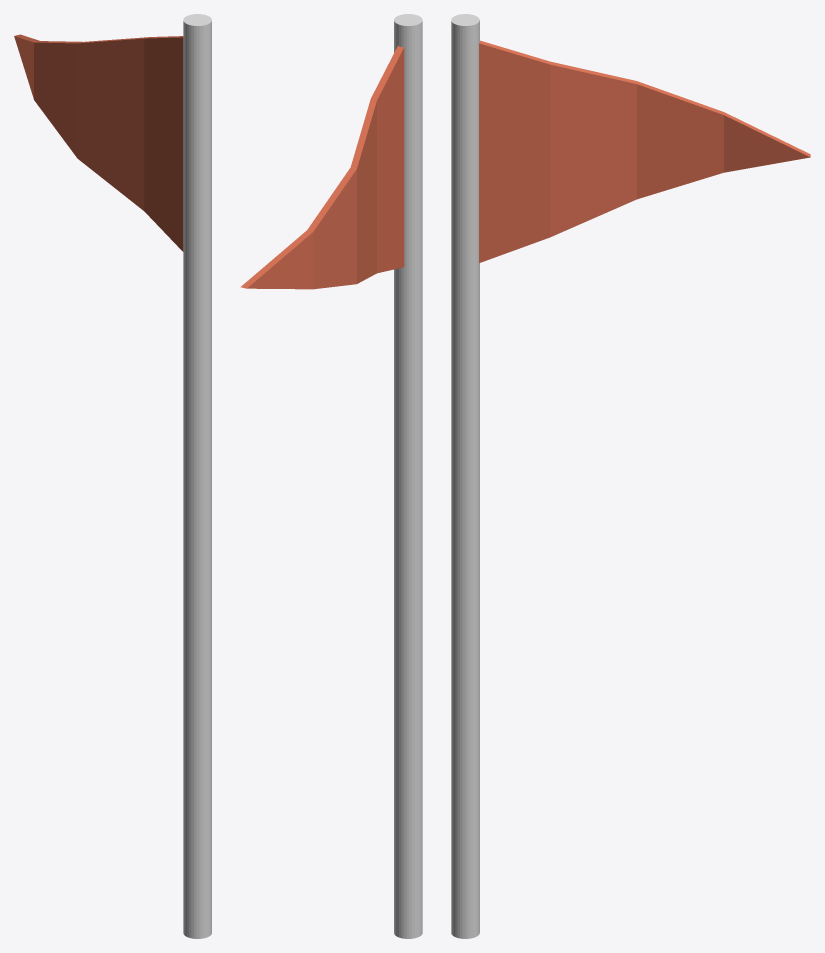
File: waypointFlag_godmode.fbx
3 renders of one model, left to right at view 1: azimuth 30°, elevation 25°; view 2: azimuth 150°, elevation 25°; view 3: azimuth 270°, elevation 25°, orthographic.
Parts seen in each view (by area): view 1: Cylinder, Plane; view 2: Cylinder, Plane; view 3: Plane, Cylinder.
Boxes of the visible parts, x1,y1,x2,y2 form: Cylinder: [183, 14, 211, 938]; Plane: [14, 34, 183, 251]; Cylinder: [394, 14, 422, 938]; Plane: [240, 46, 404, 289]; Plane: [479, 40, 810, 263]; Cylinder: [451, 14, 479, 938].
Bounding box in the file's own units: 99.16 × 1851 × 661.
